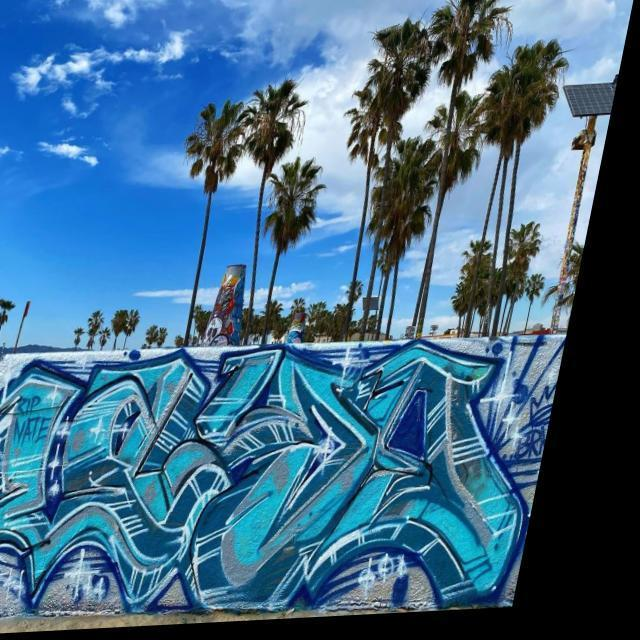-: (0, 338, 582, 632), (525, 390, 574, 476), (22, 394, 79, 452)
